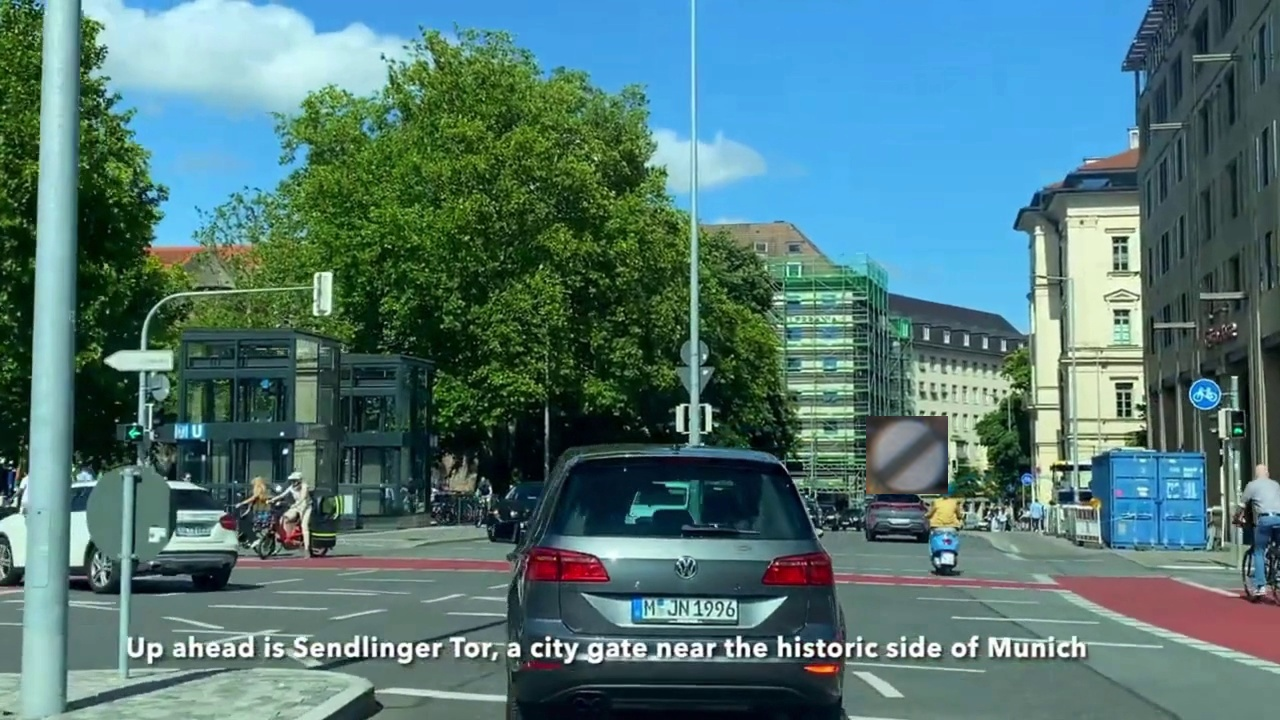End limits: (866, 416, 948, 494)
